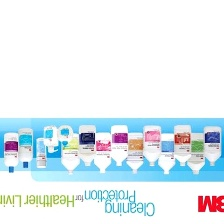cleaning_solution: (58, 131, 82, 176), (76, 123, 99, 168), (201, 124, 223, 167), (185, 131, 206, 176), (141, 124, 162, 168), (125, 130, 145, 175), (109, 123, 129, 167), (156, 131, 176, 175), (172, 123, 192, 167), (92, 131, 112, 174), (1, 131, 21, 172), (16, 127, 35, 169), (41, 122, 60, 154), (54, 123, 75, 148), (34, 136, 48, 169)
